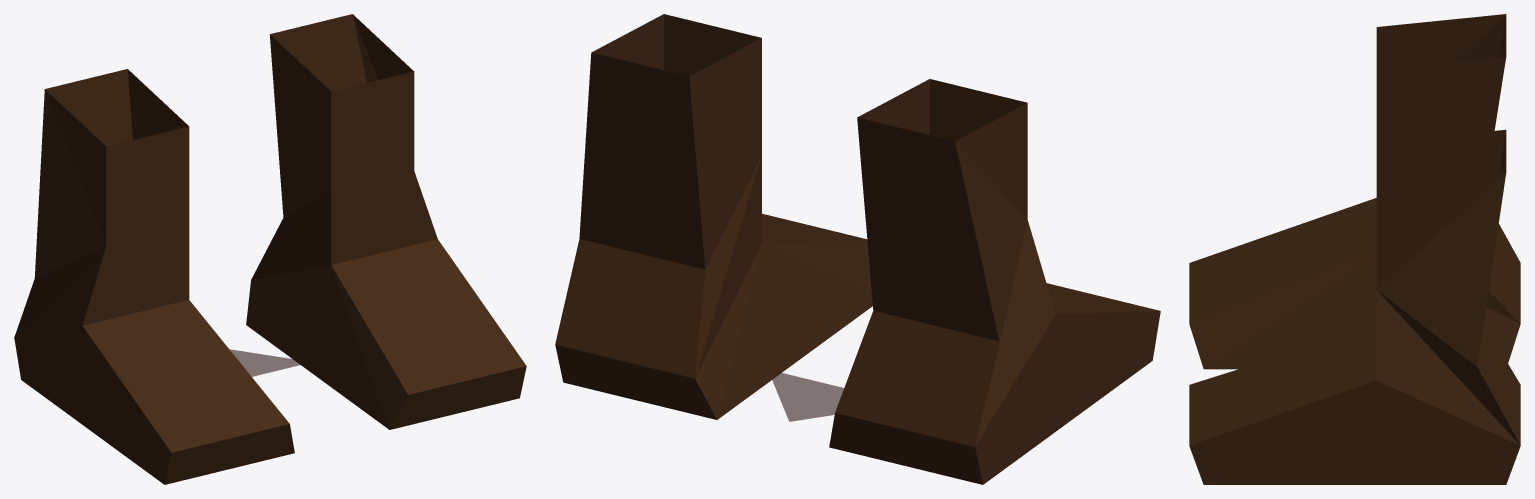
The model's file is model_358_idk.obj.
The picture shows the model from 3 angles, left to right: view 1: azimuth 30°, elevation 25°; view 2: azimuth 150°, elevation 25°; view 3: azimuth 270°, elevation 25°; orthographic projection. The views are drawn at different scales.
Visible parts, largest first — view 1: 358; view 2: 358; view 3: 358.
Part boxes in pixels (x1,y1,x2,y2): 358: [14, 14, 526, 484]; 358: [555, 14, 1160, 484]; 358: [1189, 14, 1520, 484].
Bounding box in the file's own units: 30 × 23 × 23.
